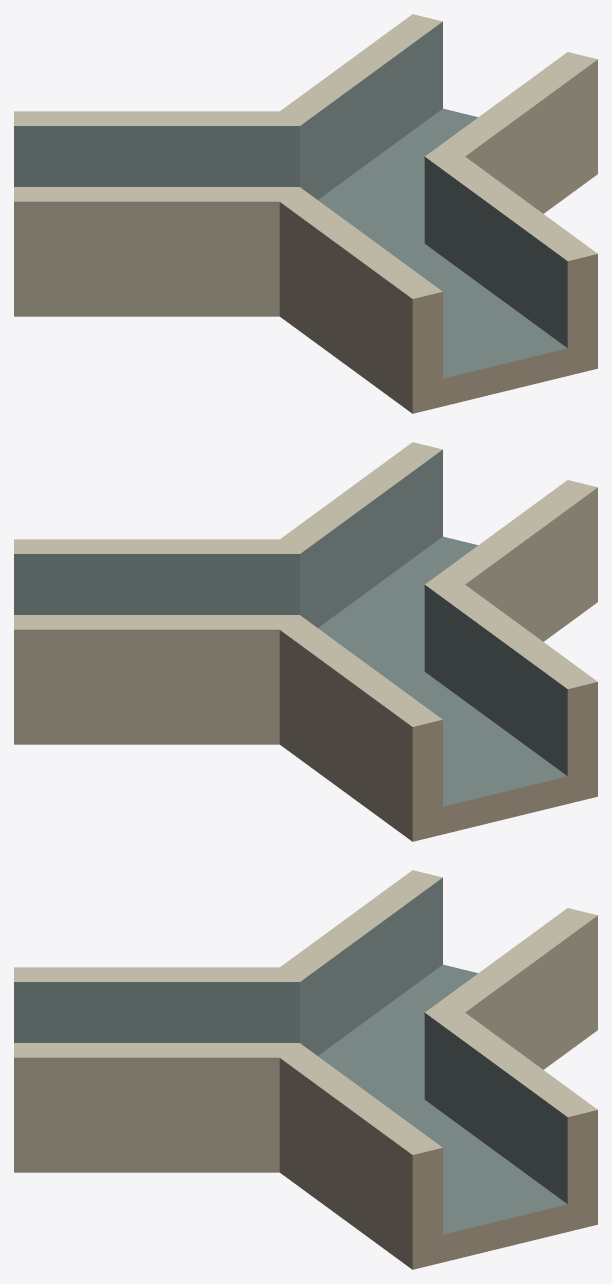
The picture shows the model from 3 angles, top to bottom: view 1: azimuth 30°, elevation 25°; view 2: azimuth 150°, elevation 25°; view 3: azimuth 270°, elevation 25°; orthographic projection.
Parts seen in each view (by area): view 1: MonolithicThreePortYChannel; view 2: MonolithicThreePortYChannel; view 3: MonolithicThreePortYChannel.
Part boxes in pixels (box(x1,y1,x2,y2)): MonolithicThreePortYChannel: box(14, 14, 597, 413); MonolithicThreePortYChannel: box(14, 442, 597, 841); MonolithicThreePortYChannel: box(14, 870, 597, 1269).
Bounding box in the file's own units: 3.09 × 0.58 × 2.67.
